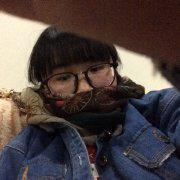WRONG: (41, 63, 122, 130)
